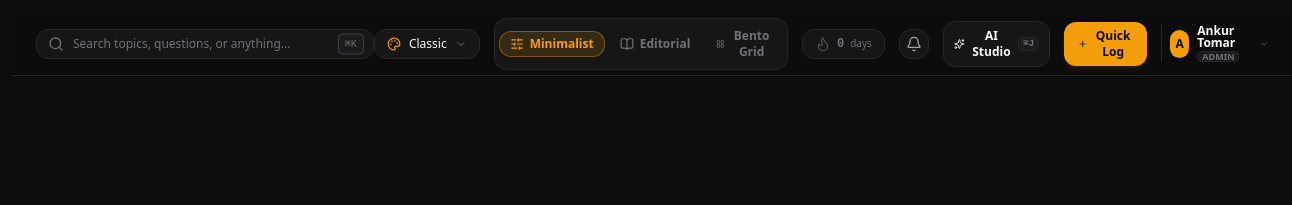
Test: Header Profile Chip & Role Badge › 3 clicking profile chip opens dropdown and clicking logout invokes logout handler
Click the element with test id "header-profile-chip": (1214, 44) top-left (1161, 25), bottom-right (1268, 62)
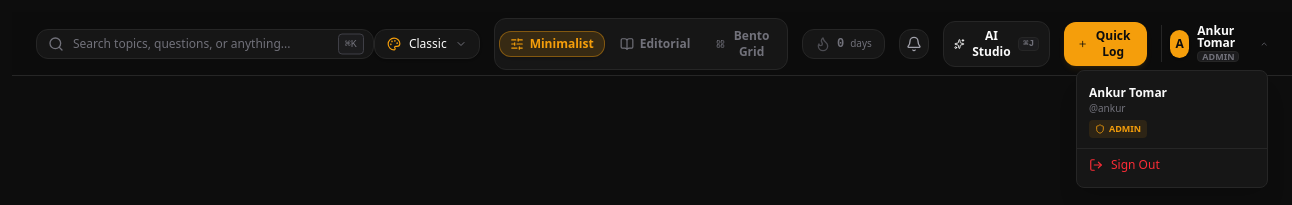
Expected: the element with test id "header-profile-dropdown" is shown, top-left (1076, 70), bottom-right (1268, 188)
Expected: the button with test id "header-logout-button" is shown
Click the button with test id "header-logout-button": (1172, 165) top-left (1077, 149), bottom-right (1267, 181)
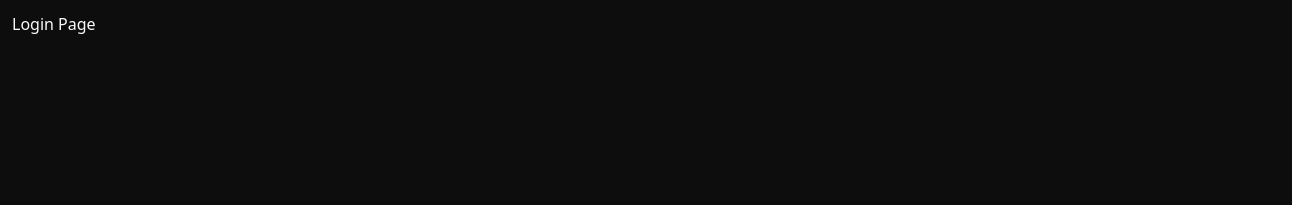
Expected: the text "Login Page" is shown, top-left (12, 13), bottom-right (96, 35)
